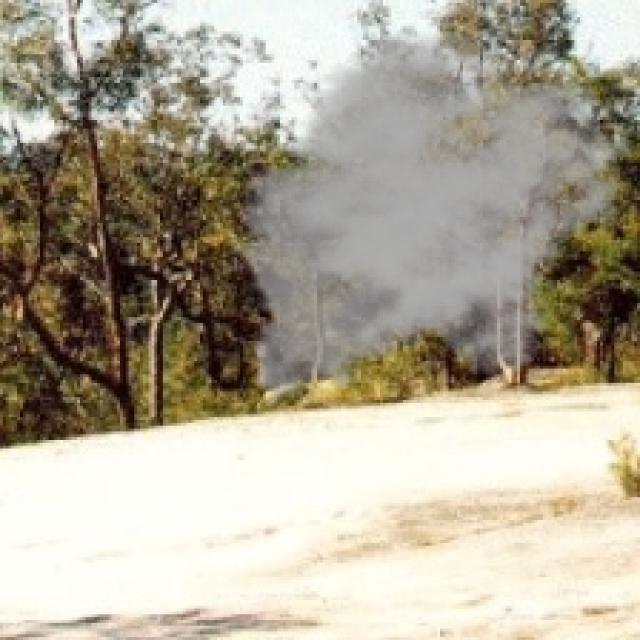Smoke: (228, 28, 638, 414)
